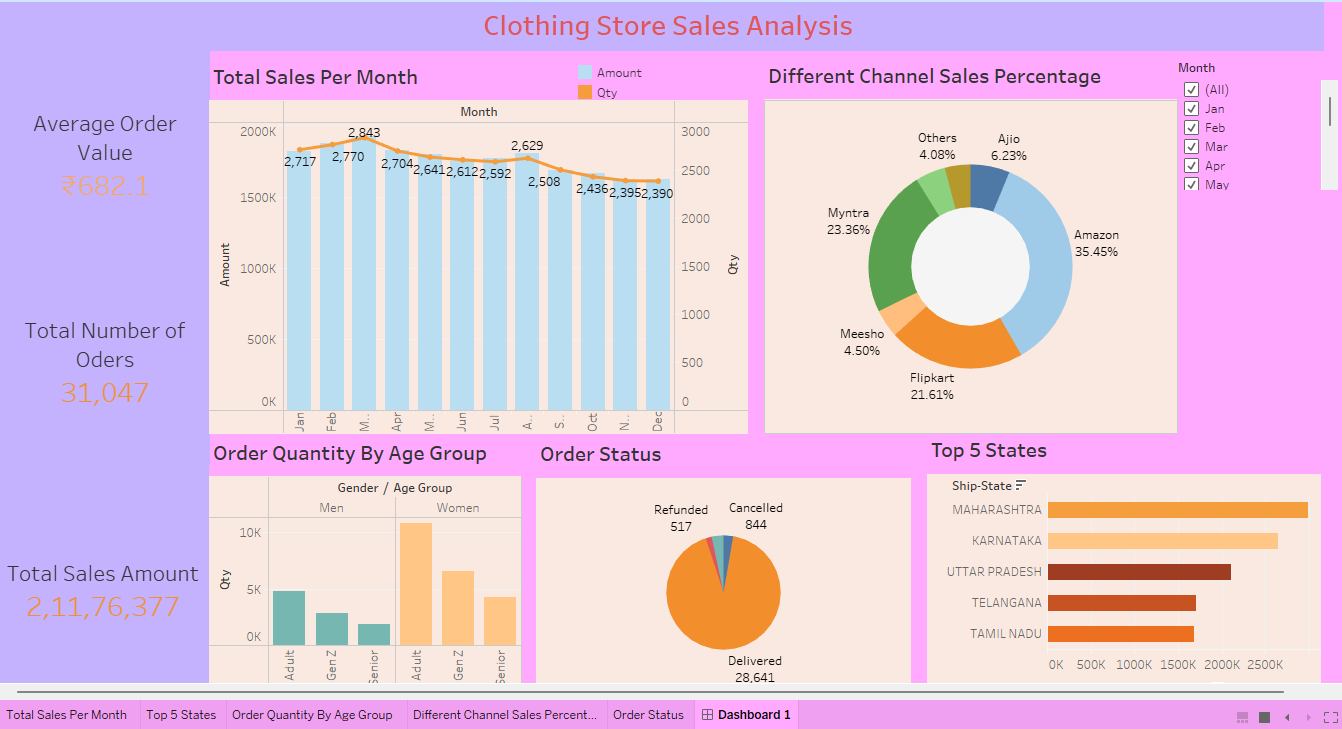

The page's visual inventory and layout, read from the dashboard file:
{"tool":"tableau","page":{"name":"Dashboard 1","canvas":[1000,1000],"units":"permille","ordinal":0},"visuals":[{"type":"worksheet","title":"Sheet 7","mark":"Automatic","box":[0,70,150,300]},{"type":"worksheet","title":"Different Channel Sales Percentage","mark":"Pie","rows":["Calculation_1342354189505339392","Calculation_1342354189505339392"],"box":[545.7,78.6,295.7,538.6]},{"type":"worksheet","title":"Total Sales Per Month","mark":"Line","rows":["Amount","Qty"],"cols":["Month"],"box":[149.3,80,385.7,537.1]},{"type":"filter","title":"Top 5 States","param":"[federated.0isxyom0m28dd912ns64b0rl8oh7].[none:Month:nk]","box":[841.4,81.7,114.3,186.7]},{"type":"legend","title":"Total Sales Per Month","param":"[federated.0isxyom0m28dd912ns64b0rl8oh7].[:Measure Names]","box":[410.7,85,100,96.7]},{"type":"legend","title":"Order Quantity By Age Group","param":"[federated.0isxyom0m28dd912ns64b0rl8oh7].[none:Gender:nk]","box":[737.9,226.7,100,96.7]},{"type":"worksheet","title":"Top 5 States","mark":"Automatic","rows":["ship-state"],"cols":["Amount"],"box":[662.1,613.3,281.4,390]},{"type":"worksheet","title":"Order Quantity By Age Group","mark":"Automatic","rows":["Qty"],"cols":["Gender","Age Group"],"box":[149.3,616.7,223.6,388.3]}]}

Visuals, with their boxes on the dashboard's canvas, which has no fixed pixel size, in thousandths of its width and height (x1, y1, x2, y2). These are canvas units, not pixel positions in the 1342x729 screenshot, which may show the page scaled, cropped or inside an application window:
"Sheet 7" worksheet: box(0, 70, 150, 370)
"Different Channel Sales Percentage" worksheet (Pie marks): box(546, 79, 841, 617)
"Total Sales Per Month" worksheet (Line marks): box(149, 80, 535, 617)
"Top 5 States" filter: box(841, 82, 956, 268)
"Total Sales Per Month" legend: box(411, 85, 511, 182)
"Order Quantity By Age Group" legend: box(738, 227, 838, 323)
"Top 5 States" worksheet: box(662, 613, 944, 1003)
"Order Quantity By Age Group" worksheet: box(149, 617, 373, 1005)
